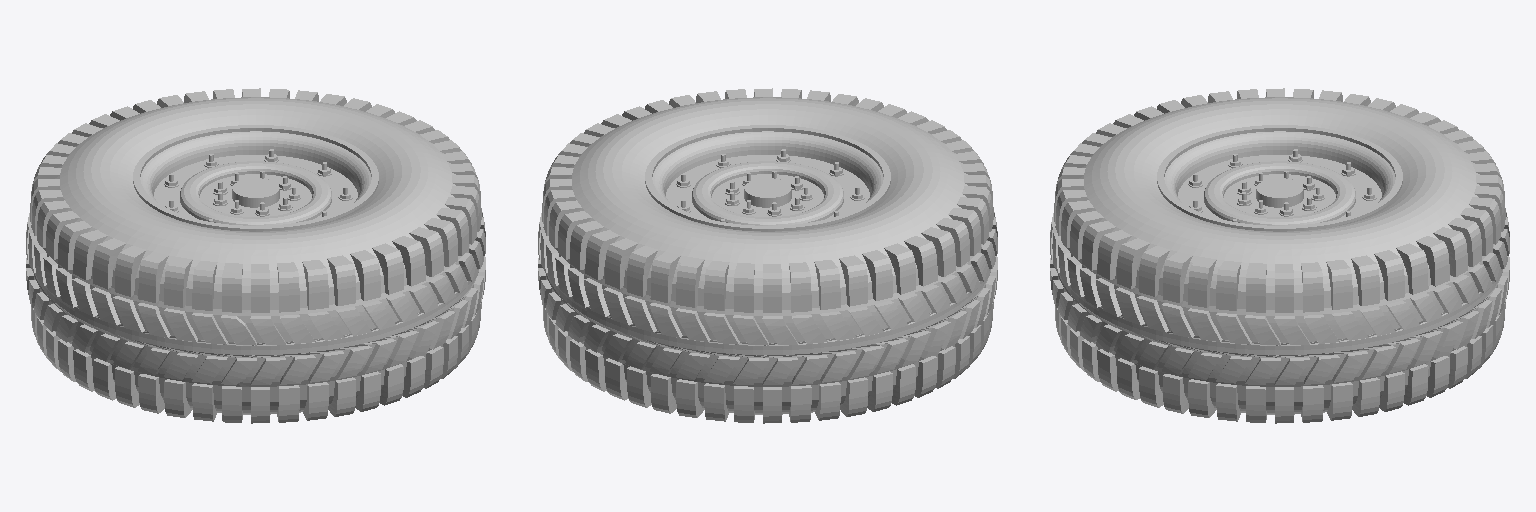
The model's file is wheel_L.obj.
3 renders of one model, left to right at view 1: azimuth 30°, elevation 25°; view 2: azimuth 150°, elevation 25°; view 3: azimuth 270°, elevation 25°, orthographic.
Visible parts, largest first — view 1: Mesh; view 2: Mesh; view 3: Mesh.
Part boxes in pixels (x1,y1,x2,y2): Mesh: (26, 88, 485, 423); Mesh: (538, 88, 997, 423); Mesh: (1050, 88, 1509, 423).
Bounding box in the file's own units: 1.06 × 0.438 × 1.06.